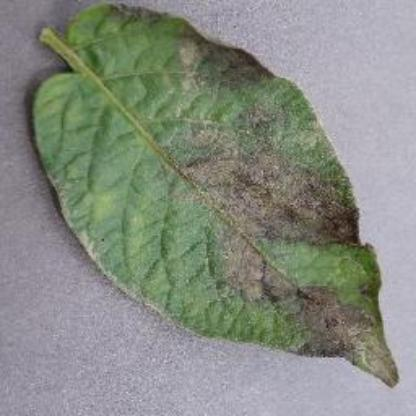Late-Blight: (23, 1, 402, 395)
